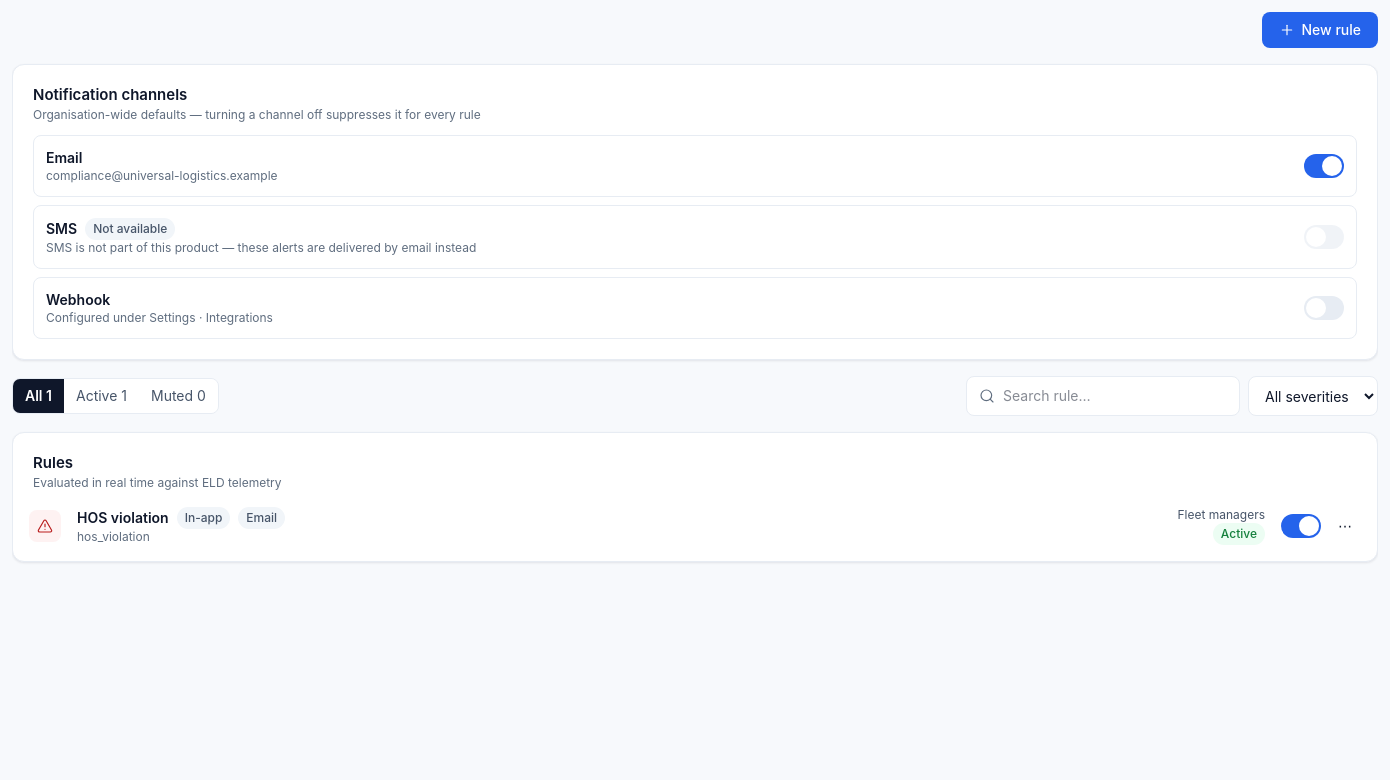
Test: AlertRulesPage — stage-2 row actions › Test rule reports an undelivered email truthfully, not as "sent"
Expected: the text "HOS violation" is shown, [77, 509, 169, 526]
Click the button named "Rule actions".
click(1345, 526)  # box [1329, 510, 1361, 542]
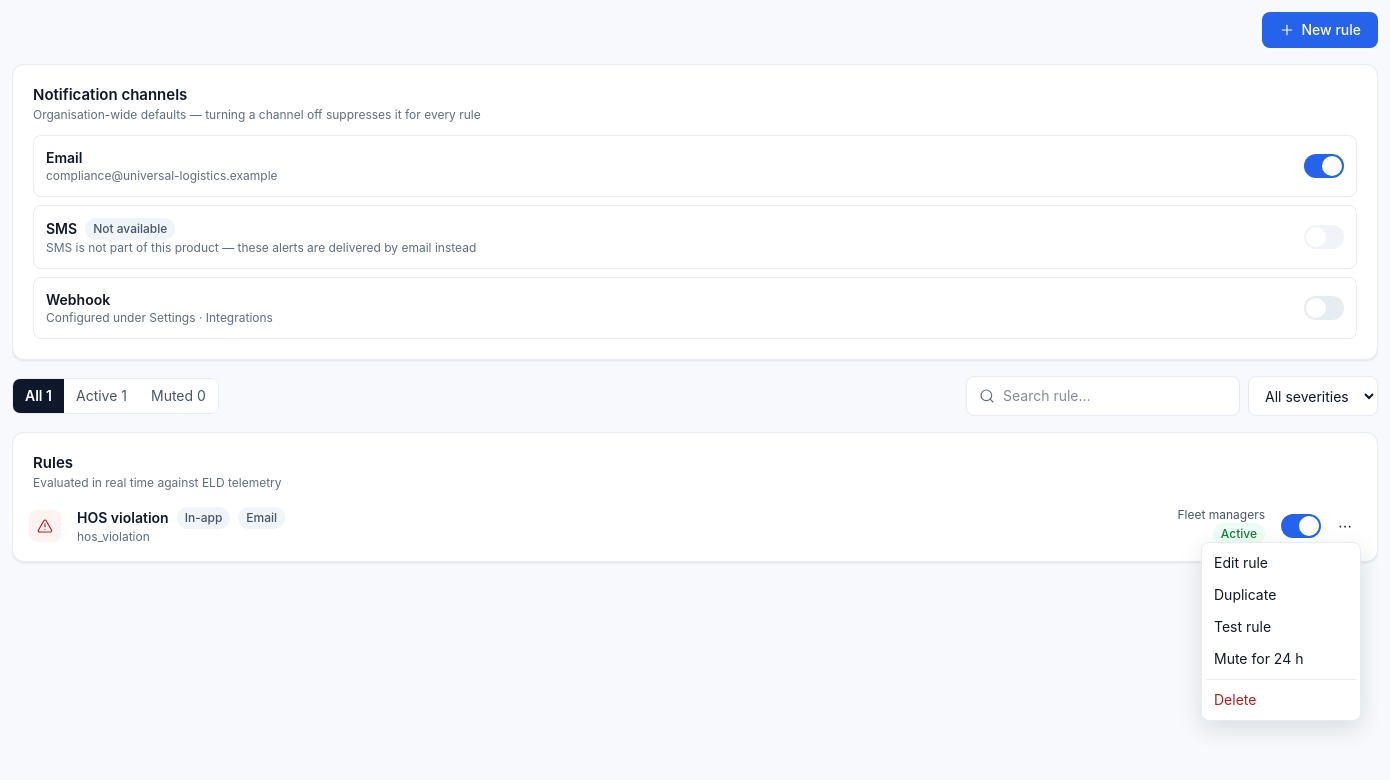
Click the menu item "Test rule".
click(1243, 626)  # box [1214, 618, 1271, 635]
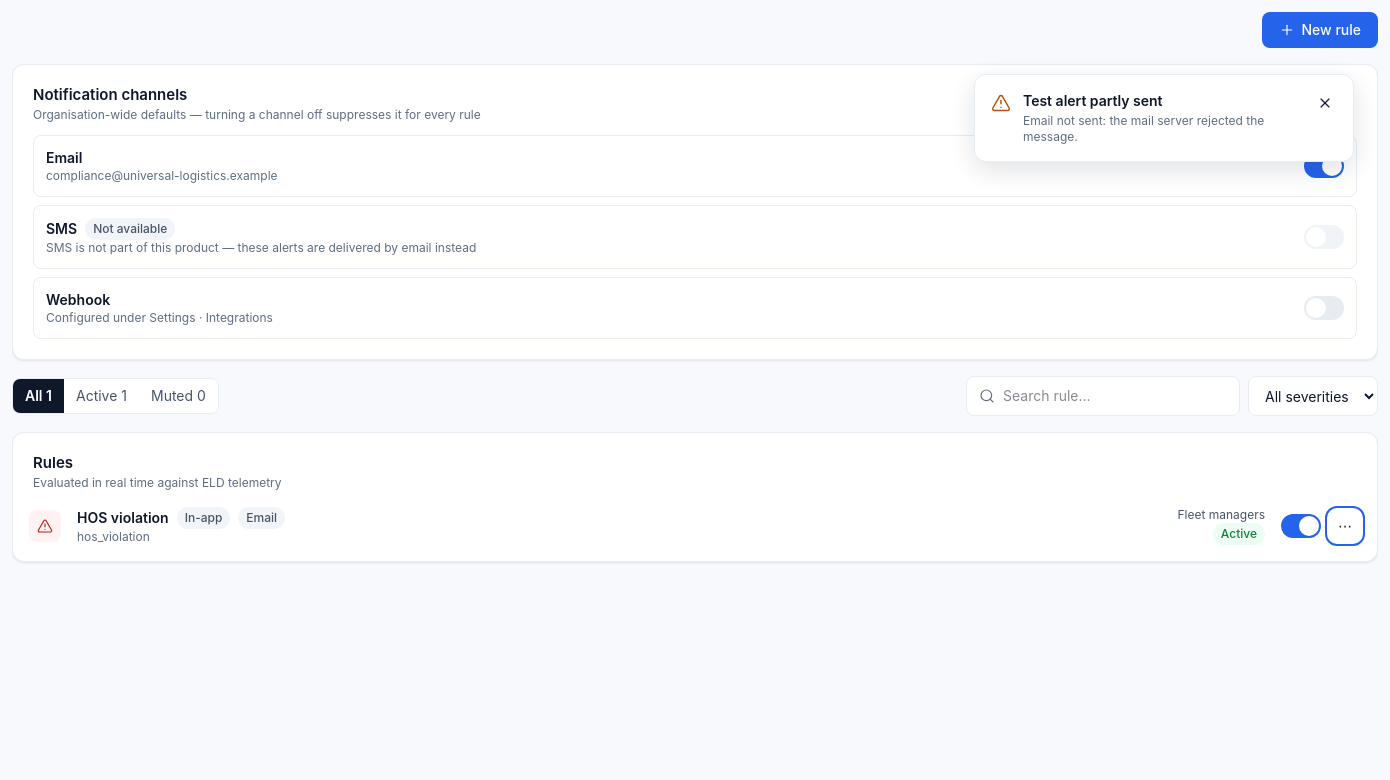
Result: the text "Test alert partly sent" is shown at [1023, 92, 1163, 109]
Result: the text "Email not sent: the mail server rejected the message." is shown at [1023, 113, 1301, 145]
